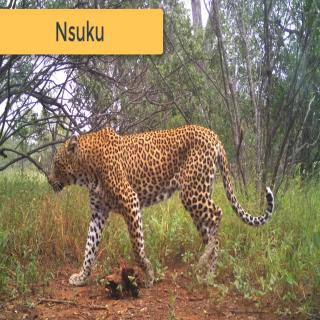Leopard: (48, 123, 274, 291)
